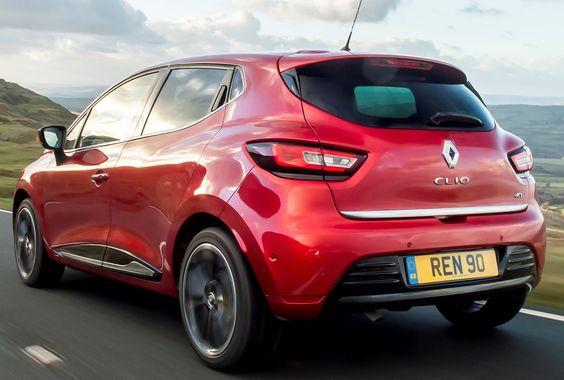Renault: (438, 132, 465, 173)
